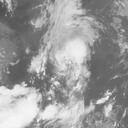cyclone: (30, 17, 99, 92)
